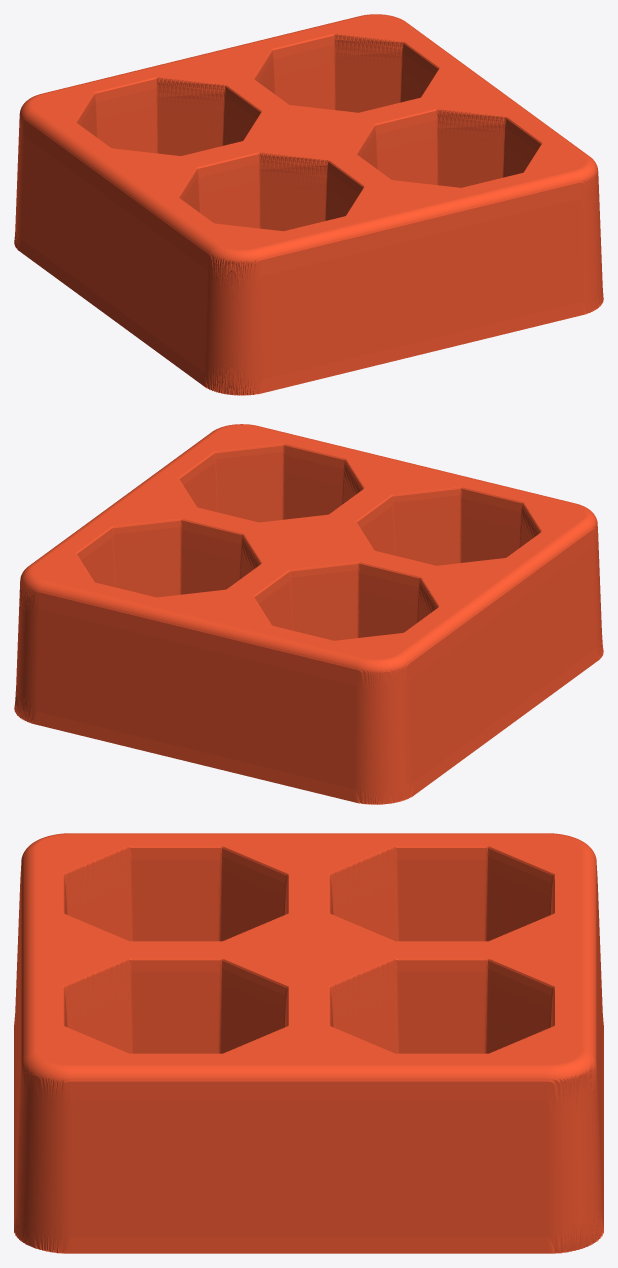
Rendered from mold.glb.
3 views of the same model, one above another, from view 1: azimuth 30°, elevation 25°; view 2: azimuth 150°, elevation 25°; view 3: azimuth 270°, elevation 25° (orthographic). The views are drawn at different scales.
Visible parts, largest first — view 1: geometry_0; view 2: geometry_0; view 3: geometry_0.
Part boxes in pixels (left/top/right/bottom): geometry_0: left=14, top=14, right=603, bottom=395; geometry_0: left=14, top=424, right=603, bottom=804; geometry_0: left=14, top=833, right=603, bottom=1253.
Bounding box in the file's own units: 0.0936 × 0.0314 × 0.0936.
